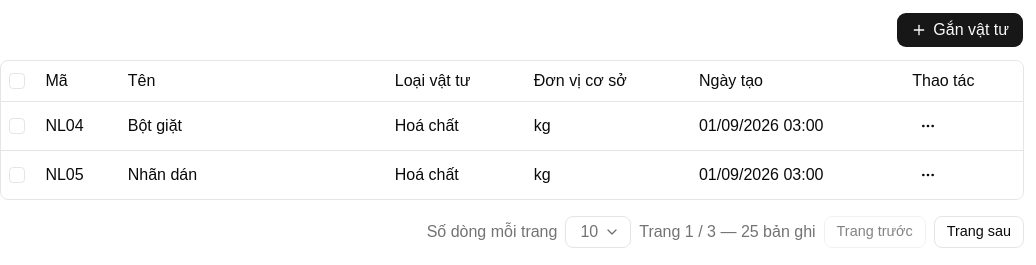
Test: SupplierMaterials — chọn nhiều để gỡ › đổi trang → bỏ chọn (không gỡ nhầm dòng đã khuất)
Check: the text "Bột giặt" is shown, box [128,116,182,134]
Click the checkbox named "Chọn NL04": (17, 126) [9,118,25,134]
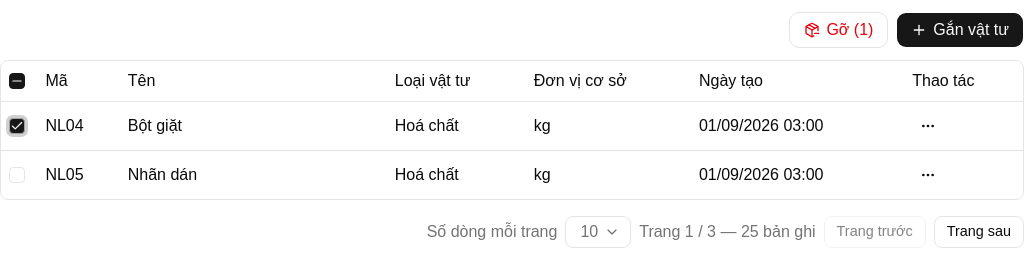
Check: the button "Gỡ (1)" is shown, box [789,12,888,48]
Click the button "Trang sau": (979, 232) [934,216,1024,248]
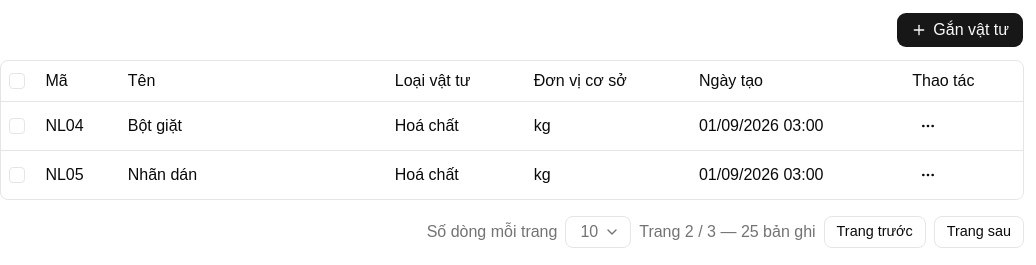
Check: the button "Gỡ (" is gone
